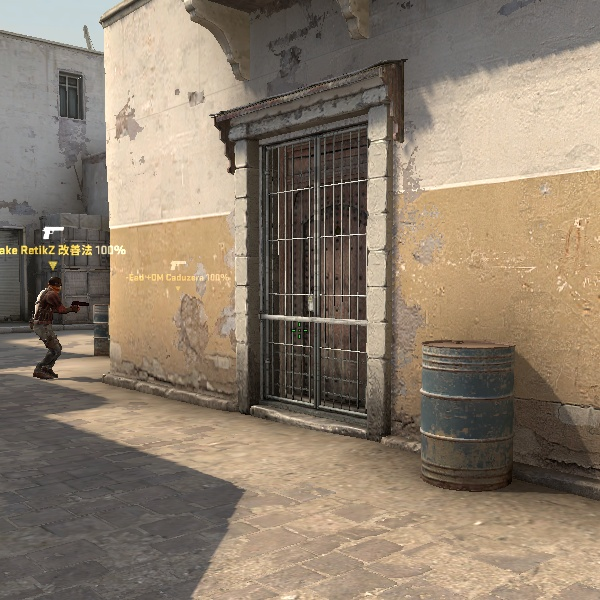t_body: (22, 274, 84, 383)
t_head: (40, 272, 67, 300)
